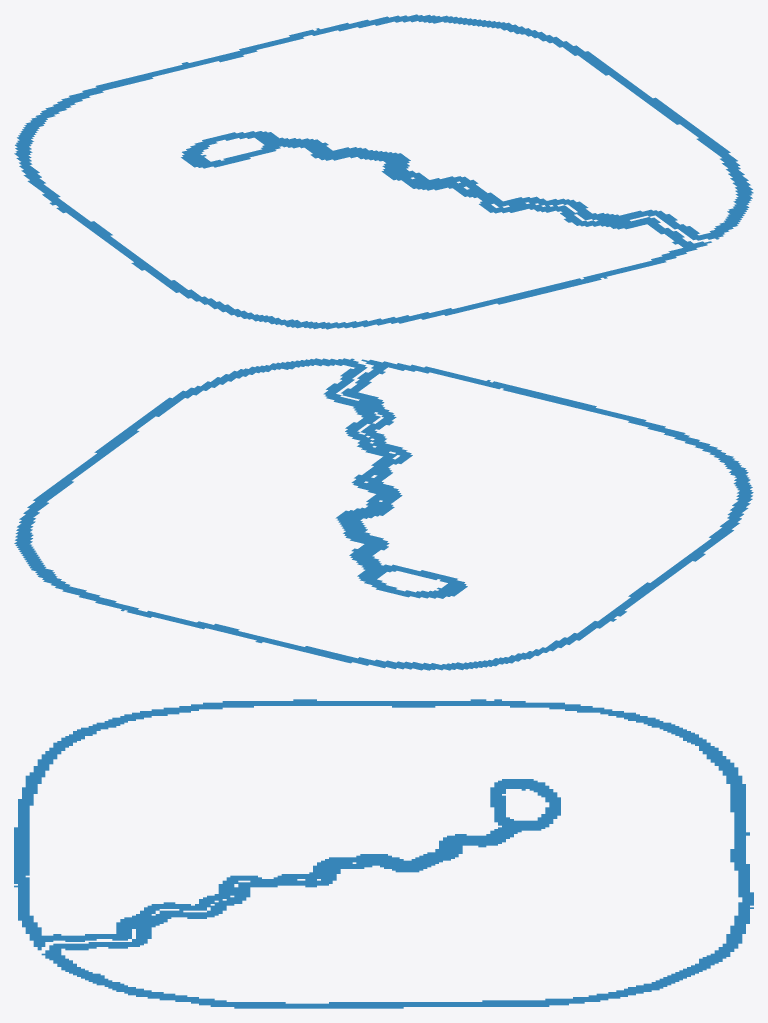
The model's file is Map-3-PlaceForWaterObjects.fbx.
3 views of the same model, one above another, from view 1: azimuth 30°, elevation 25°; view 2: azimuth 150°, elevation 25°; view 3: azimuth 270°, elevation 25° (orthographic). The views are drawn at different scales.
Visible parts, largest first — view 1: Map-3-PlaceForWaterObjects; view 2: Map-3-PlaceForWaterObjects; view 3: Map-3-PlaceForWaterObjects.
Boxes of the visible parts, left/top/right/bottom form: Map-3-PlaceForWaterObjects: left=14, top=14, right=753, bottom=329; Map-3-PlaceForWaterObjects: left=14, top=358, right=753, bottom=670; Map-3-PlaceForWaterObjects: left=14, top=699, right=753, bottom=1008.
Bounding box in the file's own units: 186 × 0 × 188.
